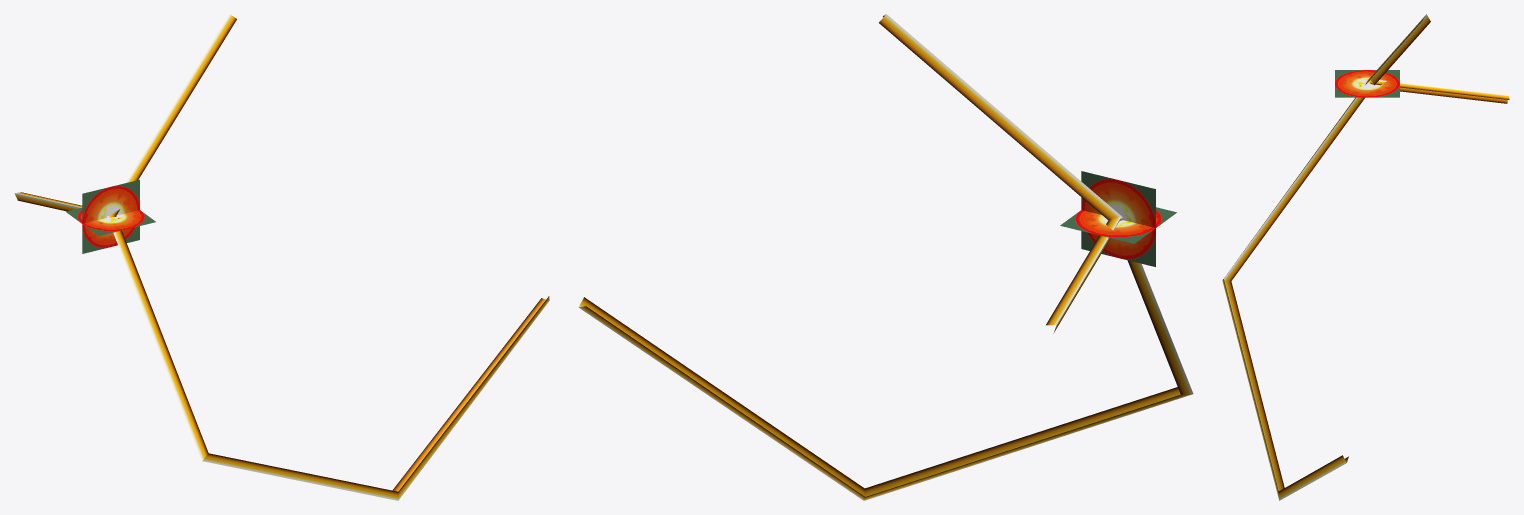
Rendered from beidou.FBX.
3 renders of one model, left to right at view 1: azimuth 30°, elevation 25°; view 2: azimuth 150°, elevation 25°; view 3: azimuth 270°, elevation 25°, orthographic. The views are drawn at different scales.
Visible parts, largest first — view 1: 网格001, Plane003; view 2: 网格001, Plane003; view 3: 网格001, Plane003.
Part boxes in pixels (x1,y1,x2,y2): 网格001: [14, 14, 549, 500]; Plane003: [66, 179, 155, 253]; 网格001: [578, 14, 1193, 500]; Plane003: [1060, 171, 1176, 266]; 网格001: [1222, 14, 1509, 500]; Plane003: [1335, 70, 1399, 97].
Bounding box in the file's own units: 238 × 226 × 133.
